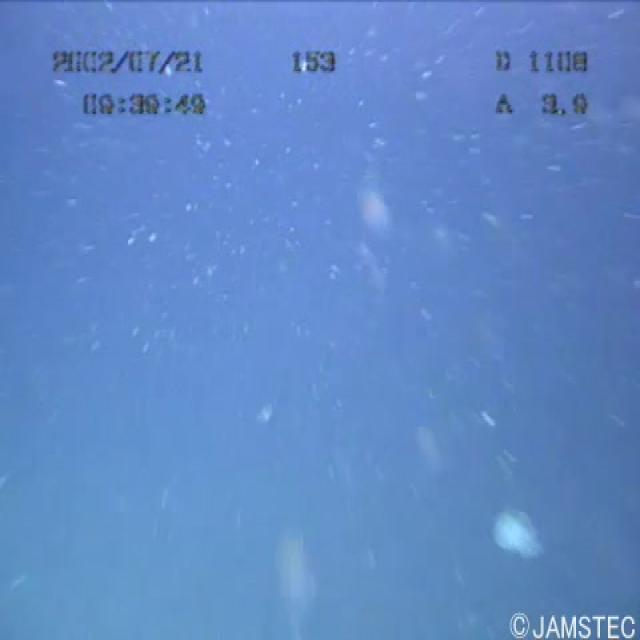plastic: (474, 502, 550, 564)
